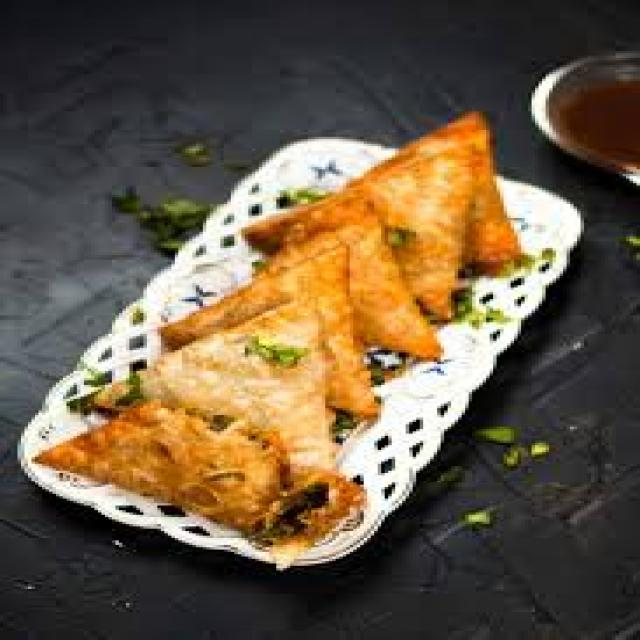SAMOSA: (245, 114, 490, 318), (94, 301, 332, 480), (161, 232, 374, 415), (42, 401, 287, 529), (343, 202, 437, 357), (304, 473, 353, 533)
